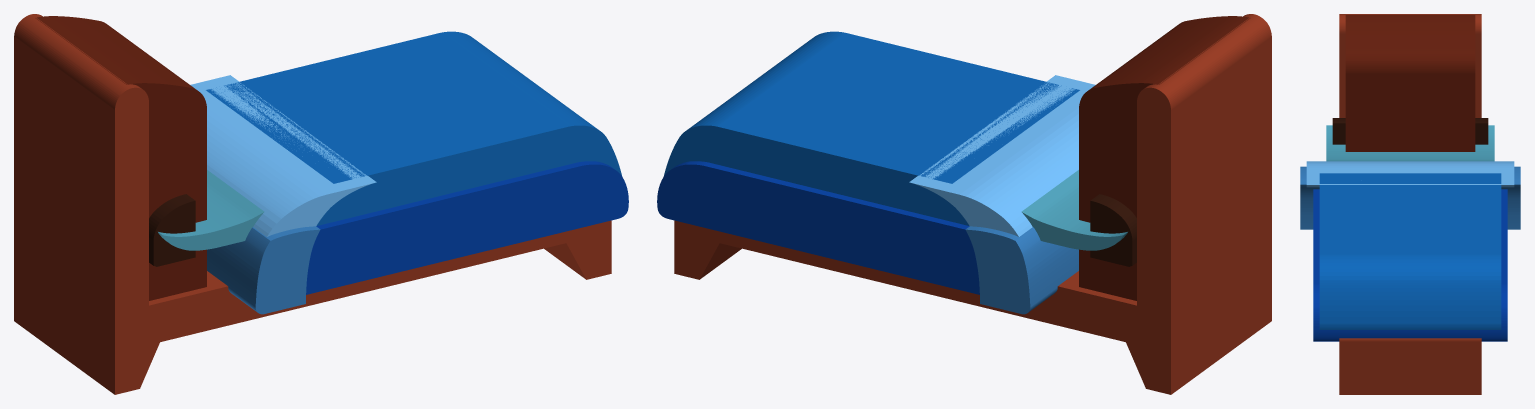
The picture shows the model from 3 angles, left to right: view 1: azimuth 30°, elevation 25°; view 2: azimuth 150°, elevation 25°; view 3: azimuth 270°, elevation 25°; orthographic projection. The views are drawn at different scales.
Parts seen in each view (by area): view 1: U+1F6CF_layer01_obj00, U+1F6CF_layer04_obj00, U+1F6CF_layer05_obj00, U+1F6CF_layer00_obj00, U+1F6CF_layer06_obj00, U+1F6CF_layer07_obj00, U+1F6CF_layer03_obj00, U+1F6CF_layer02_obj00; view 2: U+1F6CF_layer01_obj00, U+1F6CF_layer04_obj00, U+1F6CF_layer05_obj00, U+1F6CF_layer00_obj00, U+1F6CF_layer06_obj00, U+1F6CF_layer07_obj00, U+1F6CF_layer03_obj00, U+1F6CF_layer02_obj00; view 3: U+1F6CF_layer04_obj00, U+1F6CF_layer00_obj00, U+1F6CF_layer01_obj00, U+1F6CF_layer05_obj00, U+1F6CF_layer06_obj00, U+1F6CF_layer03_obj00, U+1F6CF_layer07_obj00, U+1F6CF_layer02_obj00.
Boxes of the visible parts, x1,y1,x2,y2 form: U+1F6CF_layer01_obj00: (14, 14, 611, 394); U+1F6CF_layer04_obj00: (206, 31, 622, 225); U+1F6CF_layer05_obj00: (306, 161, 628, 294); U+1F6CF_layer00_obj00: (35, 16, 206, 300); U+1F6CF_layer06_obj00: (190, 75, 376, 236); U+1F6CF_layer07_obj00: (207, 226, 320, 314); U+1F6CF_layer03_obj00: (158, 170, 264, 250); U+1F6CF_layer02_obj00: (149, 194, 195, 266); U+1F6CF_layer01_obj00: (674, 14, 1271, 394); U+1F6CF_layer04_obj00: (663, 31, 1079, 225); U+1F6CF_layer05_obj00: (657, 161, 979, 294); U+1F6CF_layer00_obj00: (1079, 16, 1250, 300); U+1F6CF_layer06_obj00: (909, 75, 1095, 236); U+1F6CF_layer07_obj00: (965, 226, 1078, 314); U+1F6CF_layer03_obj00: (1021, 170, 1127, 250); U+1F6CF_layer02_obj00: (1090, 194, 1136, 266); U+1F6CF_layer04_obj00: (1319, 173, 1501, 329); U+1F6CF_layer00_obj00: (1345, 15, 1475, 151); U+1F6CF_layer01_obj00: (1339, 14, 1481, 394); U+1F6CF_layer05_obj00: (1313, 189, 1507, 341); U+1F6CF_layer06_obj00: (1306, 161, 1514, 187); U+1F6CF_layer03_obj00: (1326, 125, 1494, 161); U+1F6CF_layer07_obj00: (1300, 166, 1520, 229); U+1F6CF_layer02_obj00: (1332, 118, 1488, 144).
Bounding box in the file's own units: 0.313 × 0.1823 × 0.17.
